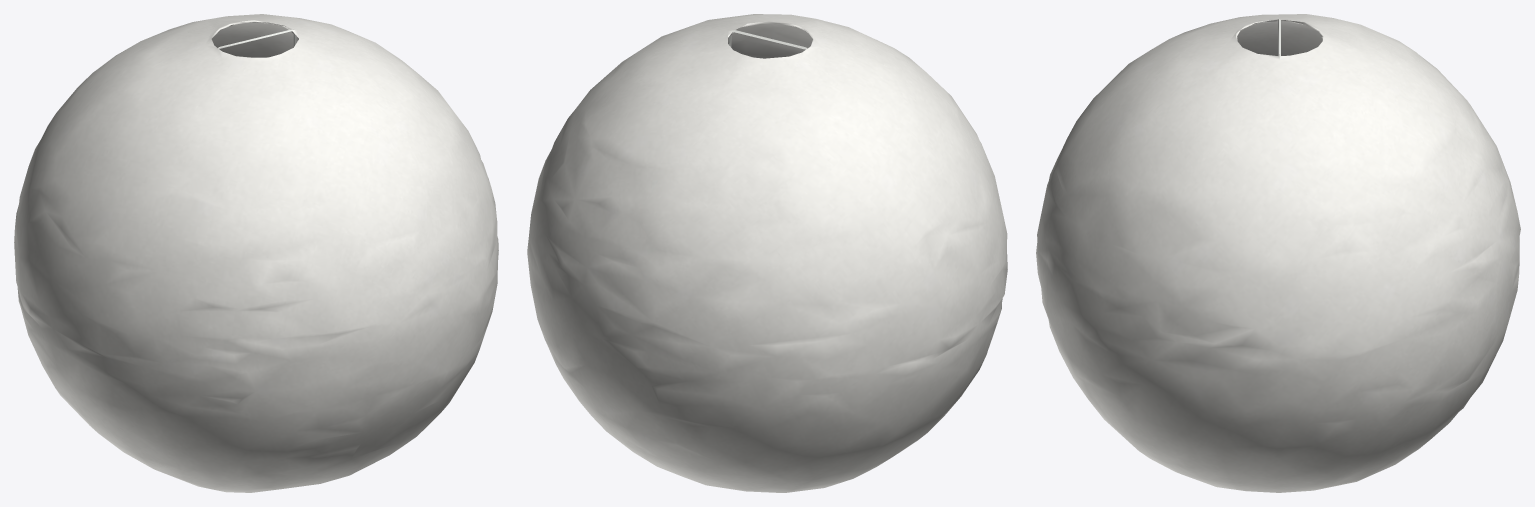
The picture shows the model from 3 angles, left to right: view 1: azimuth 30°, elevation 25°; view 2: azimuth 150°, elevation 25°; view 3: azimuth 270°, elevation 25°; orthographic projection.
Parts seen in each view (by area): view 1: ASY_ART_80583616_S01_NV01; view 2: ASY_ART_80583616_S01_NV01; view 3: ASY_ART_80583616_S01_NV01.
Part boxes in pixels (x1,y1,x2,y2): ASY_ART_80583616_S01_NV01: [14, 14, 498, 492]; ASY_ART_80583616_S01_NV01: [527, 14, 1007, 492]; ASY_ART_80583616_S01_NV01: [1036, 14, 1520, 492].
Bounding box in the file's own units: 0.7034 × 0.6985 × 0.7066.
1 material, 1 textured.
